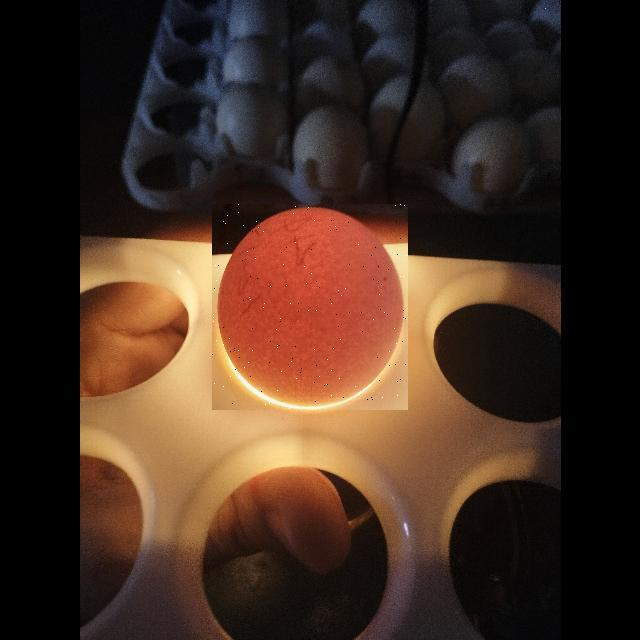A - Good: (212, 204, 408, 410)
